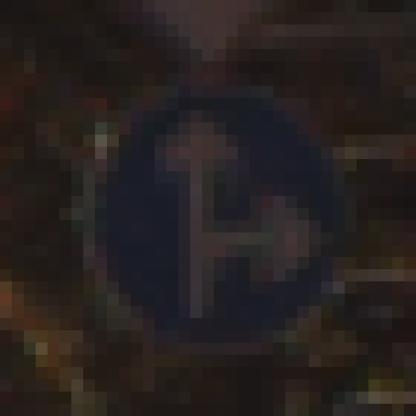Straight or Right: (72, 74, 358, 356)
